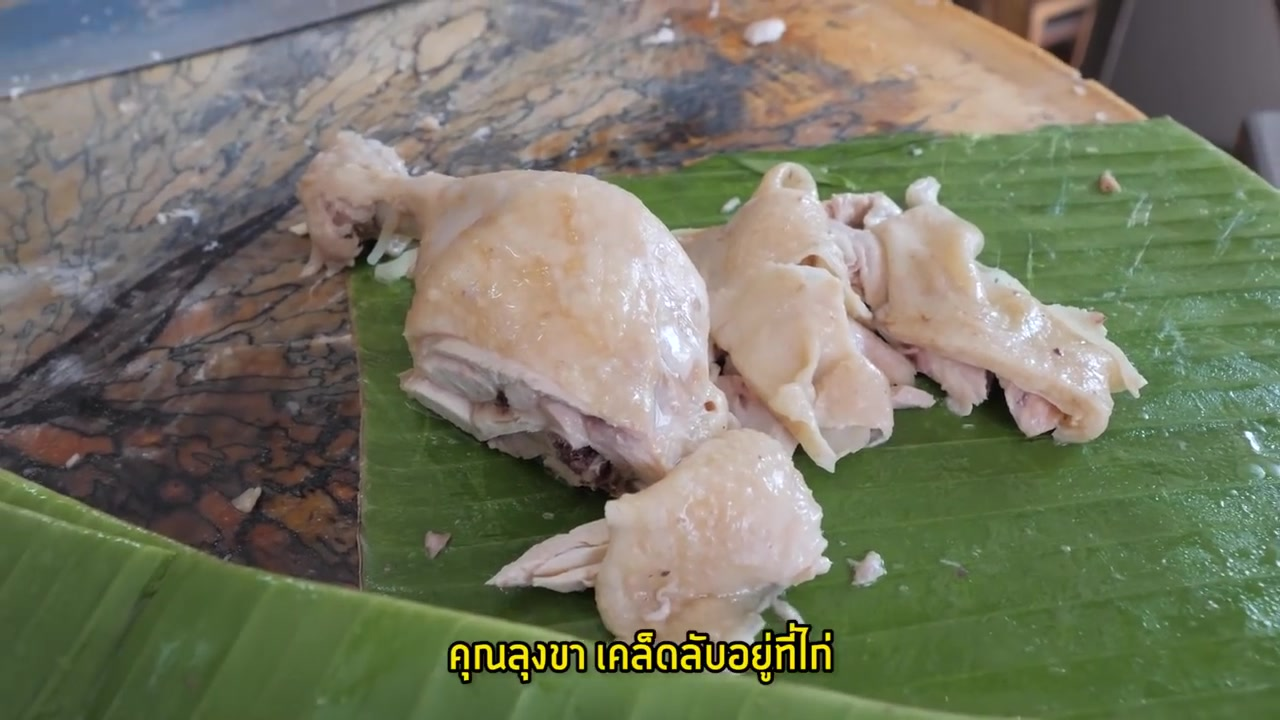text-label: (445, 614, 838, 684)
